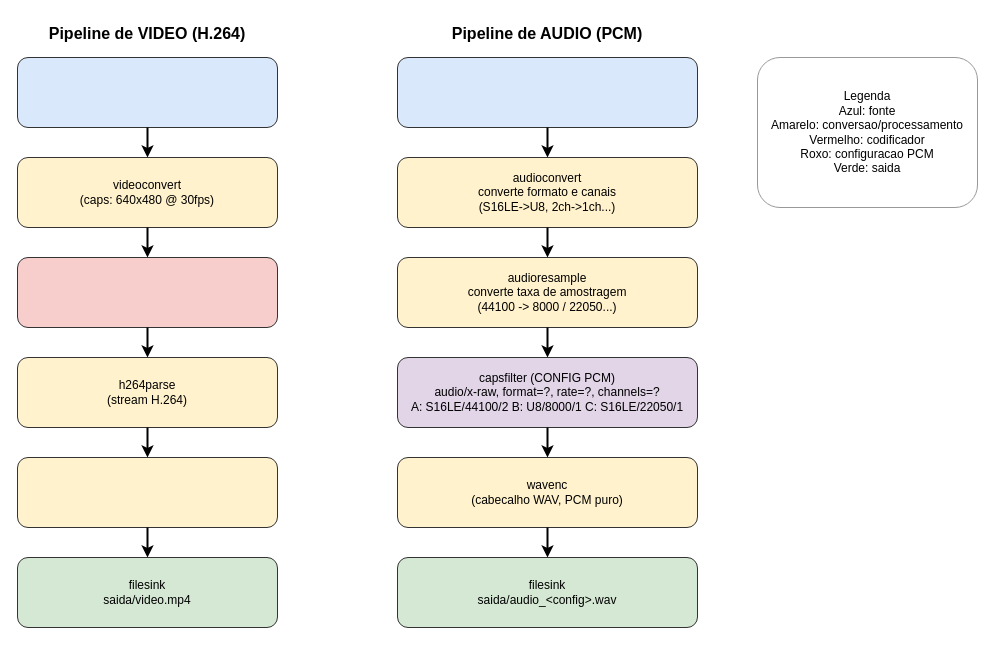
Image size: 995x645. Some labels were removed from this diagram. The centre of each missing label's shape, as x and y in pixels:
"audiotestsrc wave=seno, freq=440 Hz fonte: 44100 Hz / S16LE / 2ch" goes at point (547, 92).
"mp4mux (container MP4)" goes at point (147, 492).
"videotestsrc num-buffers=150 pattern=smpte (0)" goes at point (147, 92).
"x264enc bitrate=1000 kbps tune=zerolatency" goes at point (147, 292).
